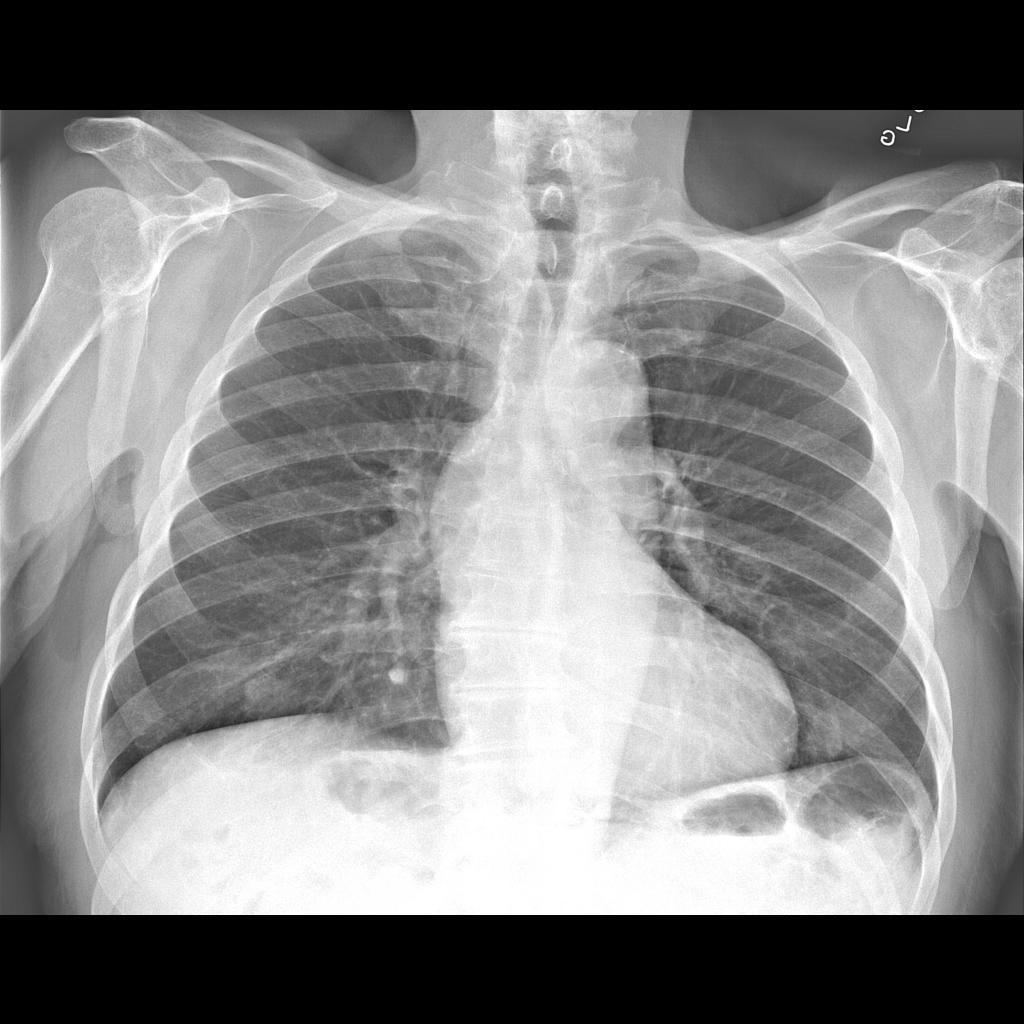Nodule: (238, 673, 279, 717), (384, 660, 420, 691)
